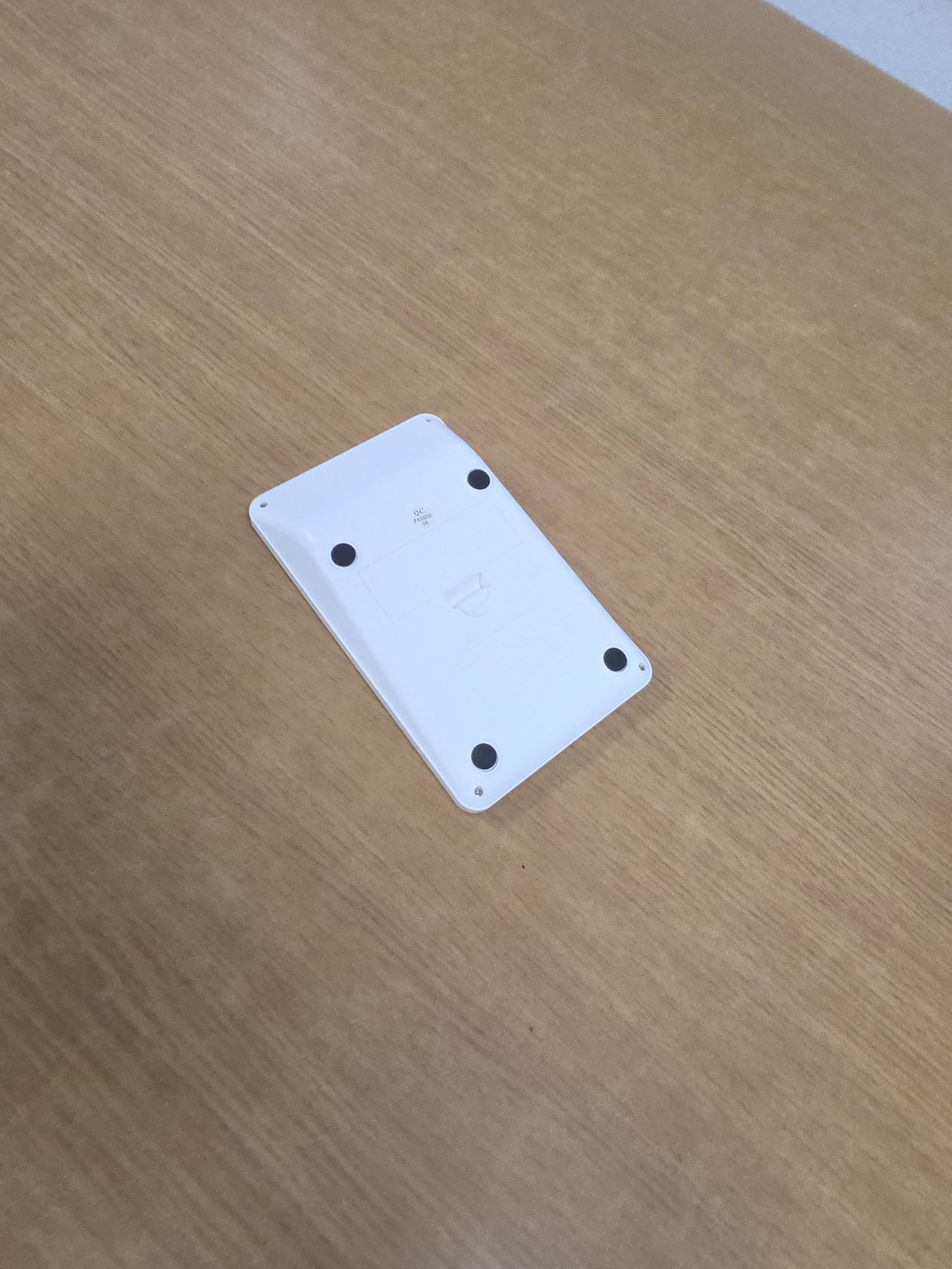calculator: (247, 412, 653, 814)
